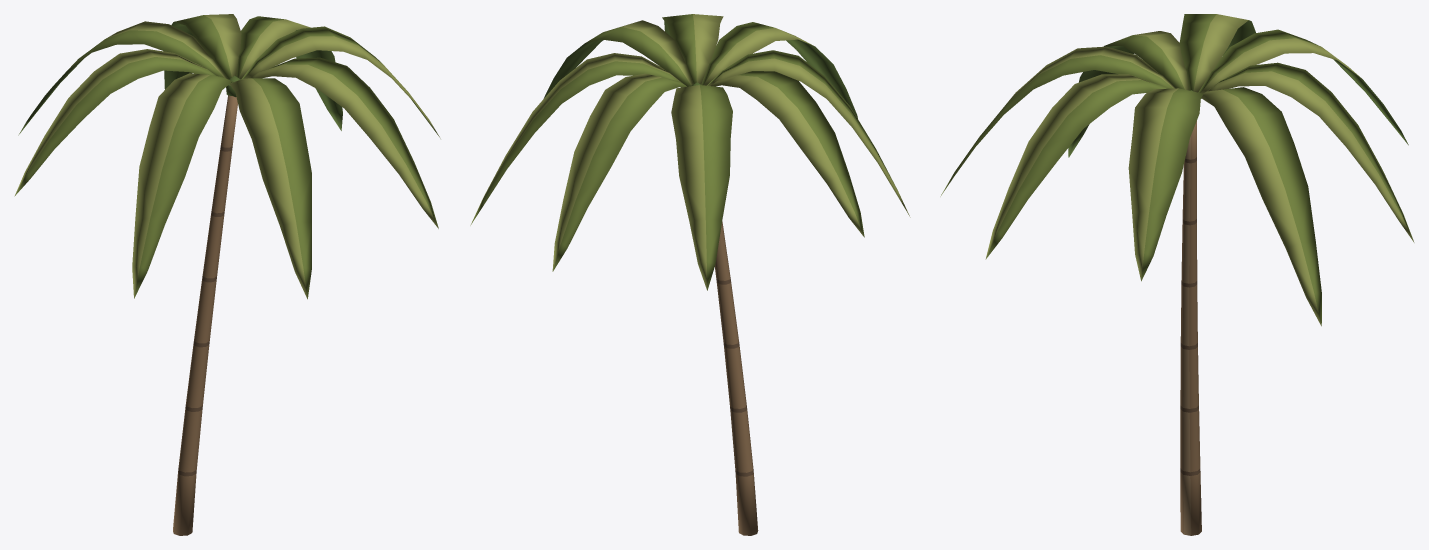
The model's file is coast_palm.glb.
The picture shows the model from 3 angles, left to right: view 1: azimuth 30°, elevation 25°; view 2: azimuth 150°, elevation 25°; view 3: azimuth 270°, elevation 25°; orthographic projection. The views are drawn at different scales.
Visible parts, largest first — view 1: coast_palm; view 2: coast_palm; view 3: coast_palm.
Part boxes in pixels (bbox=[...]): coast_palm: bbox=[14, 14, 440, 535]; coast_palm: bbox=[470, 14, 910, 535]; coast_palm: bbox=[940, 14, 1414, 535].
Size of the model in its own units: 4.73 by 5.65 by 4.88.
